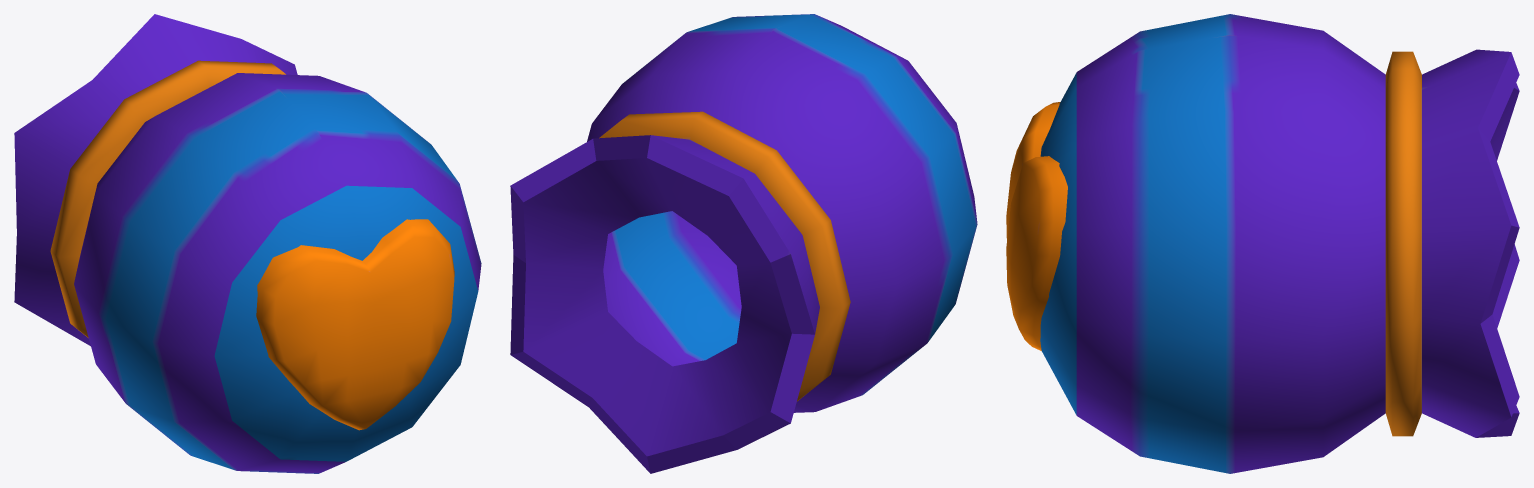
The model's file is Glove05_R.fbx.
3 views of the same model, side by side, from view 1: azimuth 30°, elevation 25°; view 2: azimuth 150°, elevation 25°; view 3: azimuth 270°, elevation 25° (orthographic). The views are drawn at different scales.
Visible parts, largest first — view 1: Glove05_R; view 2: Glove05_R; view 3: Glove05_R.
Boxes of the visible parts, left/top/right/bottom form: Glove05_R: left=14, top=14, right=481, bottom=473; Glove05_R: left=510, top=14, right=977, bottom=473; Glove05_R: left=1006, top=14, right=1519, bottom=473.
Size of the model in its own units: 56.18 by 56.18 by 62.47.
1 material, 1 textured.
